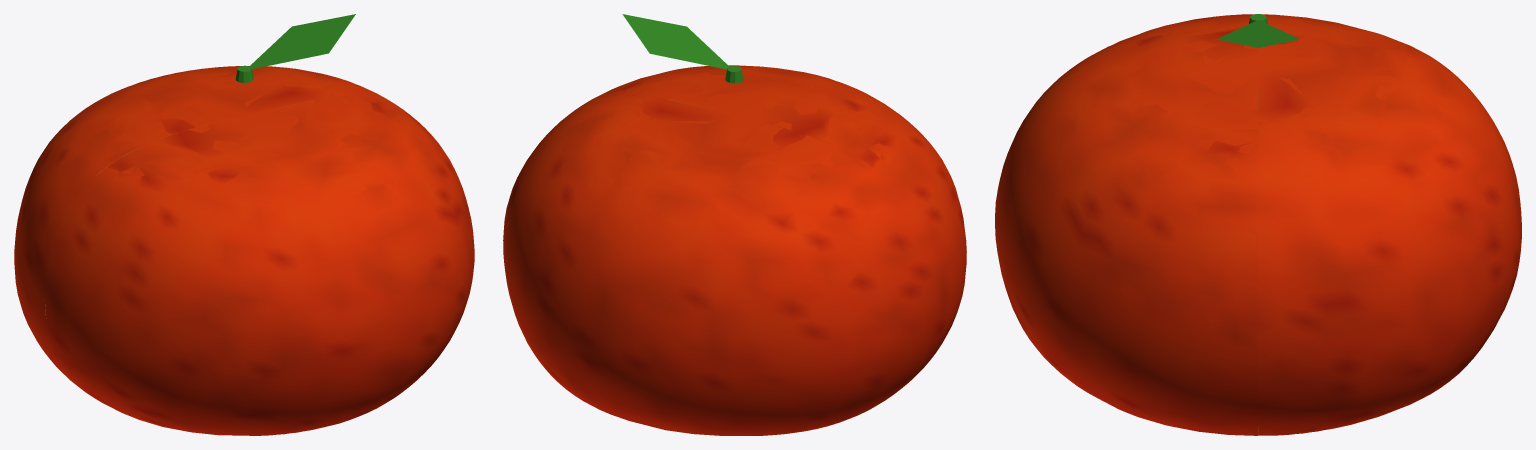
File: tangor.glb
3 renders of one model, left to right at view 1: azimuth 30°, elevation 25°; view 2: azimuth 150°, elevation 25°; view 3: azimuth 270°, elevation 25°, orthographic. The views are drawn at different scales.
Parts seen in each view (by area): view 1: entier_peau, moitie_B_peau, moitie_A_peau, entier_extra0; view 2: entier_peau, moitie_A_peau, moitie_B_peau, entier_extra0; view 3: entier_peau, moitie_B_peau, moitie_A_peau, entier_extra0.
Boxes of the visible parts, x1=… form: entier_peau: x1=14, y1=66, x2=473, y2=435; moitie_B_peau: x1=45, y1=95, x2=474, y2=435; moitie_A_peau: x1=14, y1=66, x2=385, y2=382; entier_extra0: x1=235, y1=14, x2=355, y2=82; entier_peau: x1=503, y1=65, x2=966, y2=435; moitie_A_peau: x1=503, y1=96, x2=935, y2=435; moitie_B_peau: x1=580, y1=65, x2=966, y2=366; entier_extra0: x1=622, y1=14, x2=743, y2=83; entier_peau: x1=995, y1=14, x2=1521, y2=435; moitie_B_peau: x1=995, y1=15, x2=1258, y2=435; moitie_A_peau: x1=1258, y1=14, x2=1521, y2=435; entier_extra0: x1=1216, y1=14, x2=1300, y2=47.
Bounding box in the file's own units: 2 × 1.65 × 2.
